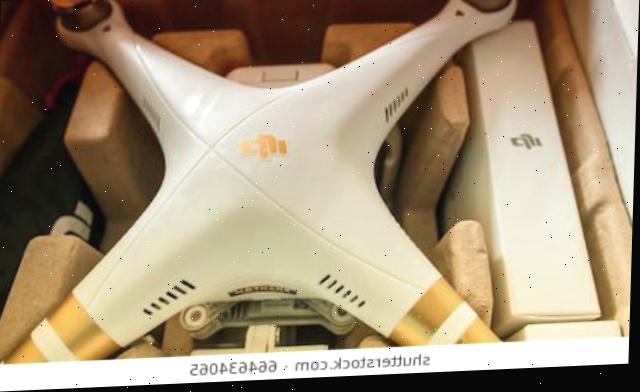drone: (0, 0, 640, 362)
